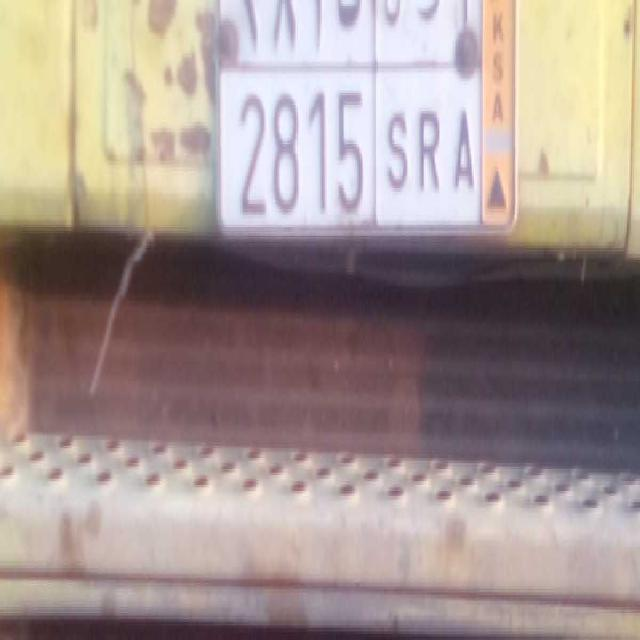license_plate: (217, 61, 481, 234)
